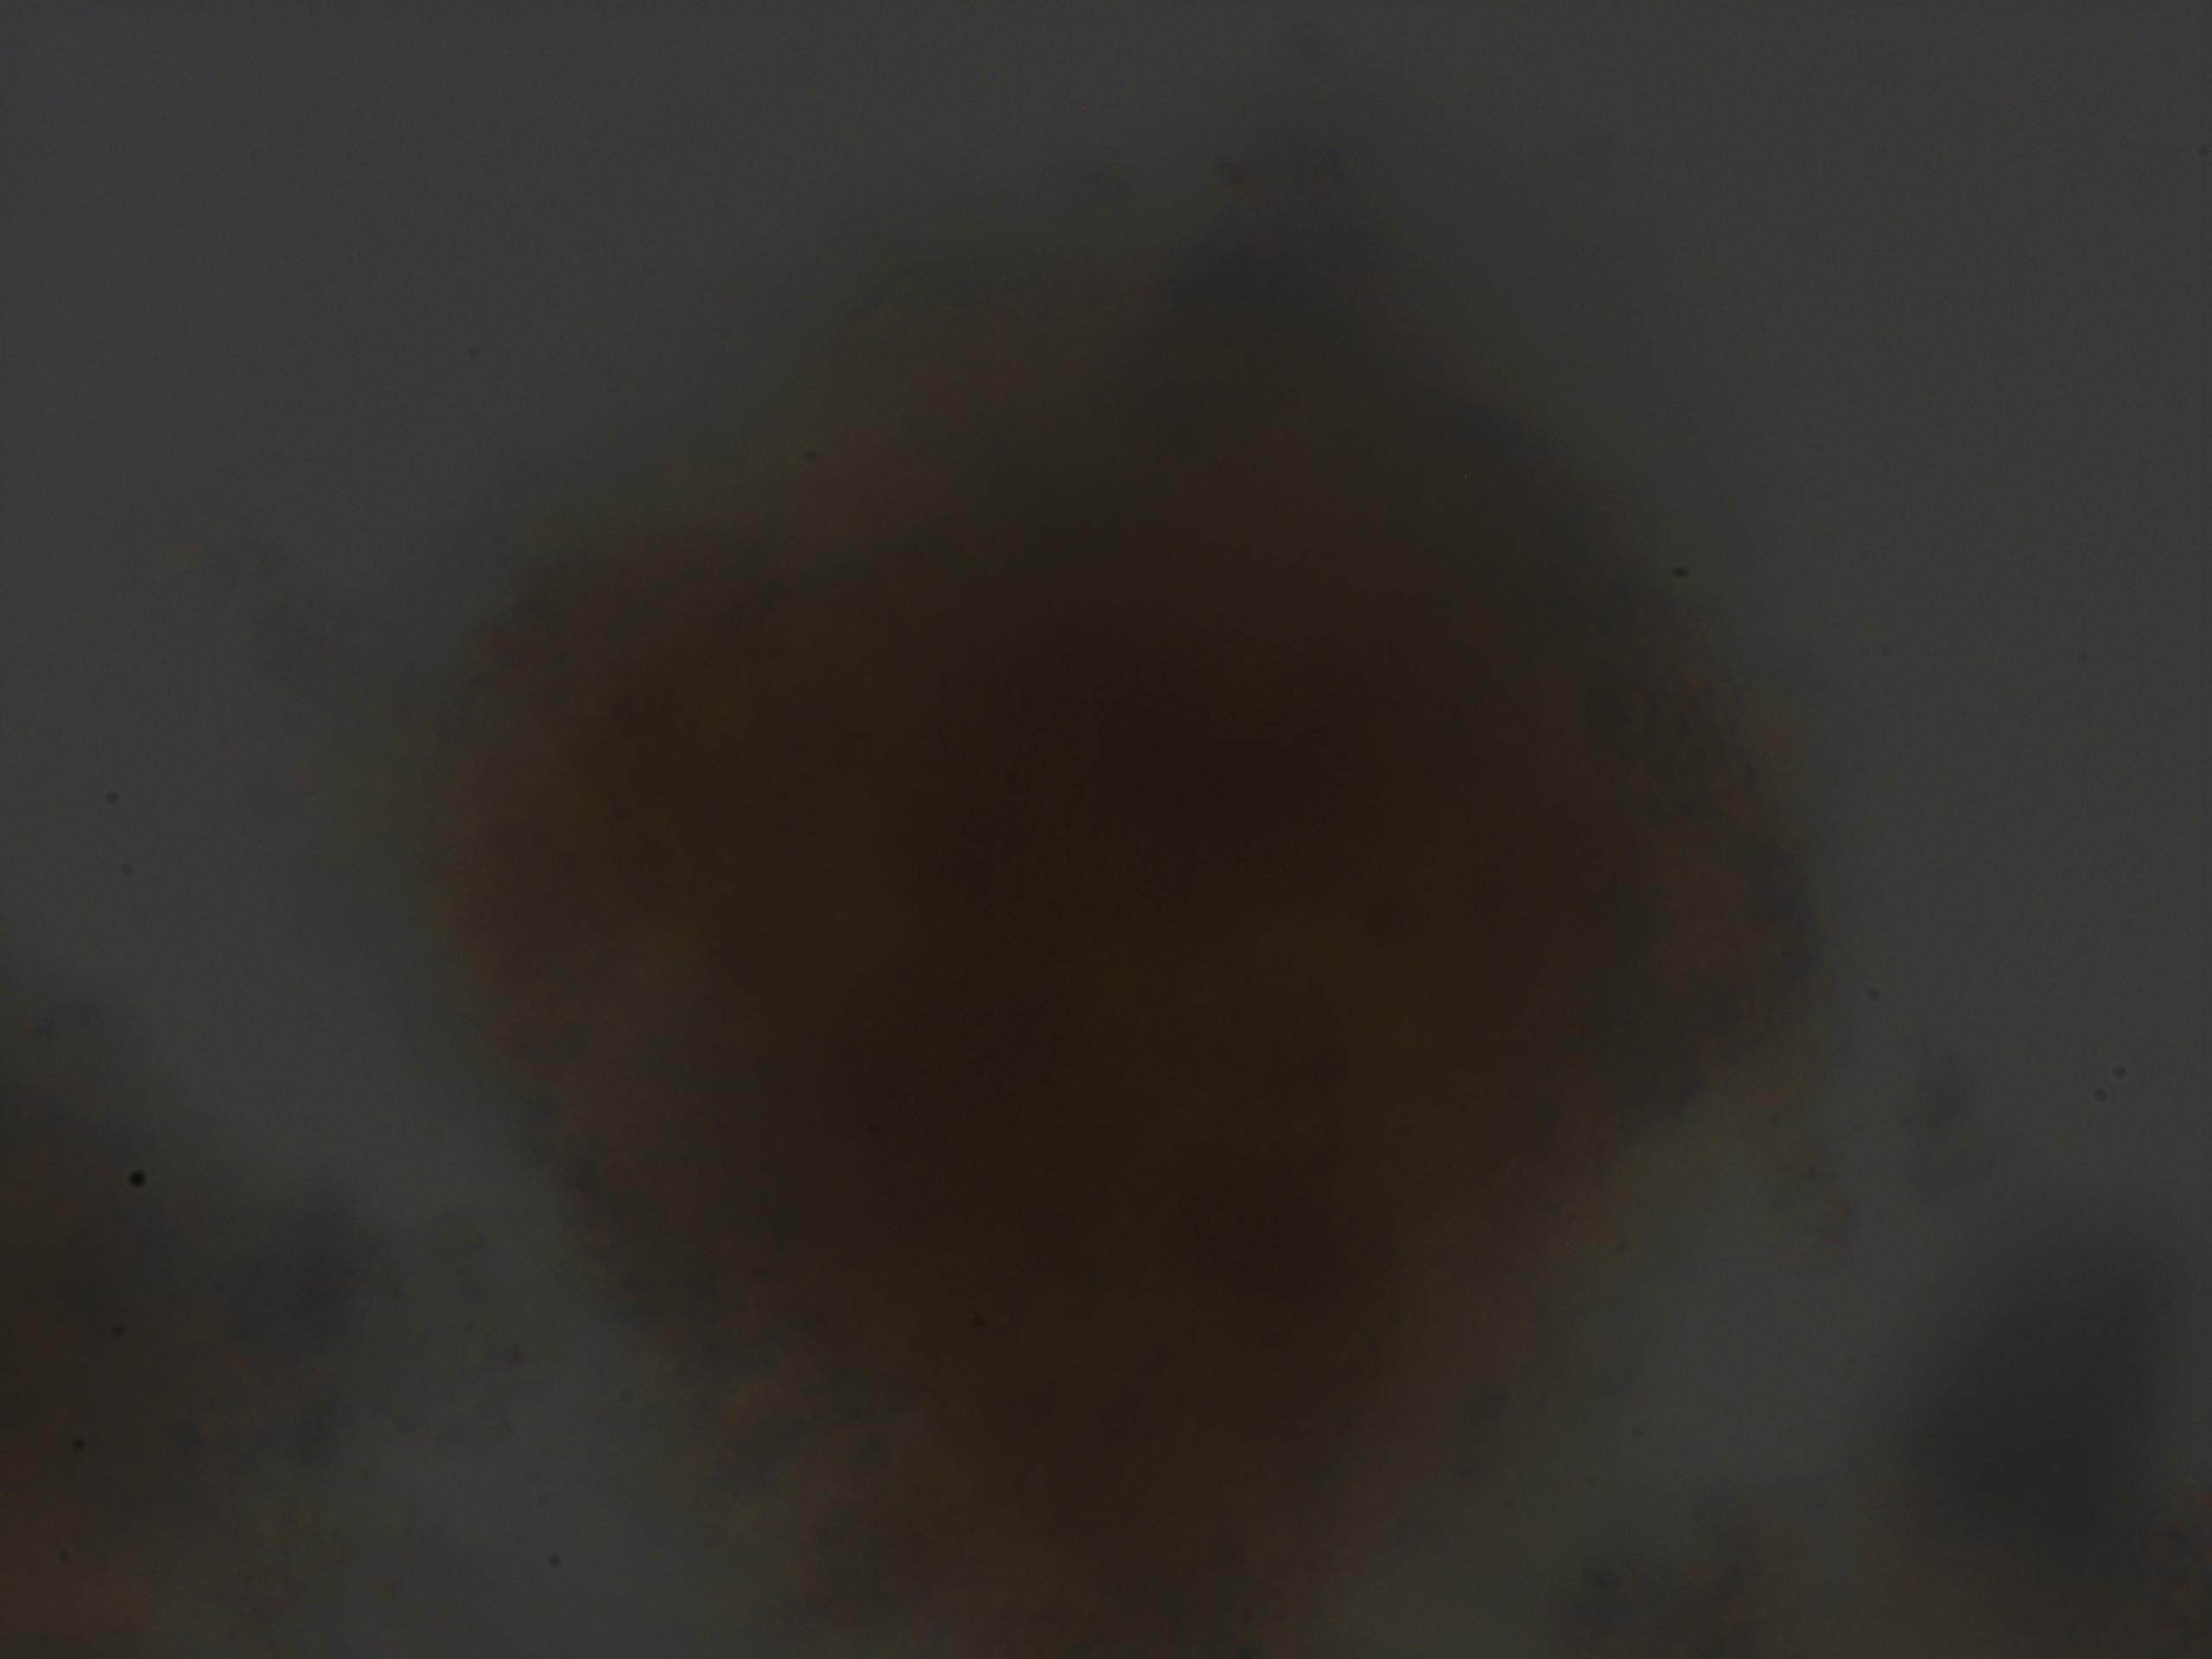spherical_floc: (425, 186, 1832, 1659)
